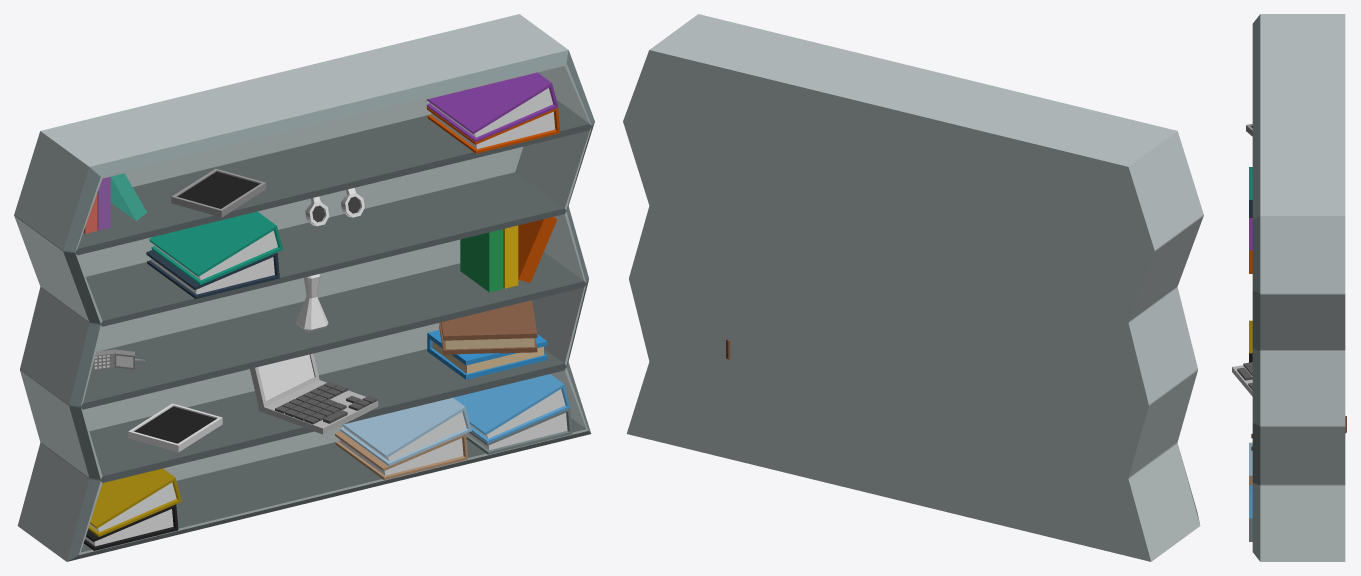
Rendered from Technology-Room-Cabinet.fbx.
3 views of the same model, side by side, from view 1: azimuth 30°, elevation 25°; view 2: azimuth 150°, elevation 25°; view 3: azimuth 270°, elevation 25° (orthographic). The views are drawn at different scales.
Visible parts, largest first — view 1: Technology-Room-Cabinet, Book-7, Laptop-2, Folder-3, Folder-1, Folder-7, Folder-9, Folder-5, Tablet-Computer-2.001, Tablet-Computer-1, Folder-8, Folder-4 (+10 smaller); view 2: Technology-Room-Cabinet; view 3: Technology-Room-Cabinet, Laptop-2.
Part boxes in pixels (x1=…): Technology-Room-Cabinet: x1=14, y1=14, x2=594, y2=561; Book-7: x1=427, y1=301, x2=547, y2=379; Laptop-2: x1=250, y1=353, x2=378, y2=434; Folder-3: x1=149, y1=211, x2=283, y2=284; Folder-1: x1=426, y1=72, x2=558, y2=141; Folder-7: x1=340, y1=397, x2=471, y2=465; Folder-9: x1=453, y1=374, x2=570, y2=443; Folder-5: x1=88, y1=468, x2=181, y2=536; Tablet-Computer-2.001: x1=128, y1=403, x2=222, y2=452; Tablet-Computer-1: x1=171, y1=168, x2=265, y2=217; Folder-8: x1=335, y1=431, x2=468, y2=480; Folder-4: x1=146, y1=250, x2=279, y2=298; Technology-Room-Cabinet: x1=623, y1=14, x2=1203, y2=561; Technology-Room-Cabinet: x1=1252, y1=14, x2=1345, y2=561; Laptop-2: x1=1232, y1=362, x2=1252, y2=396.
Bounding box in the file's own units: 3.89 × 2.73 × 0.8435.
